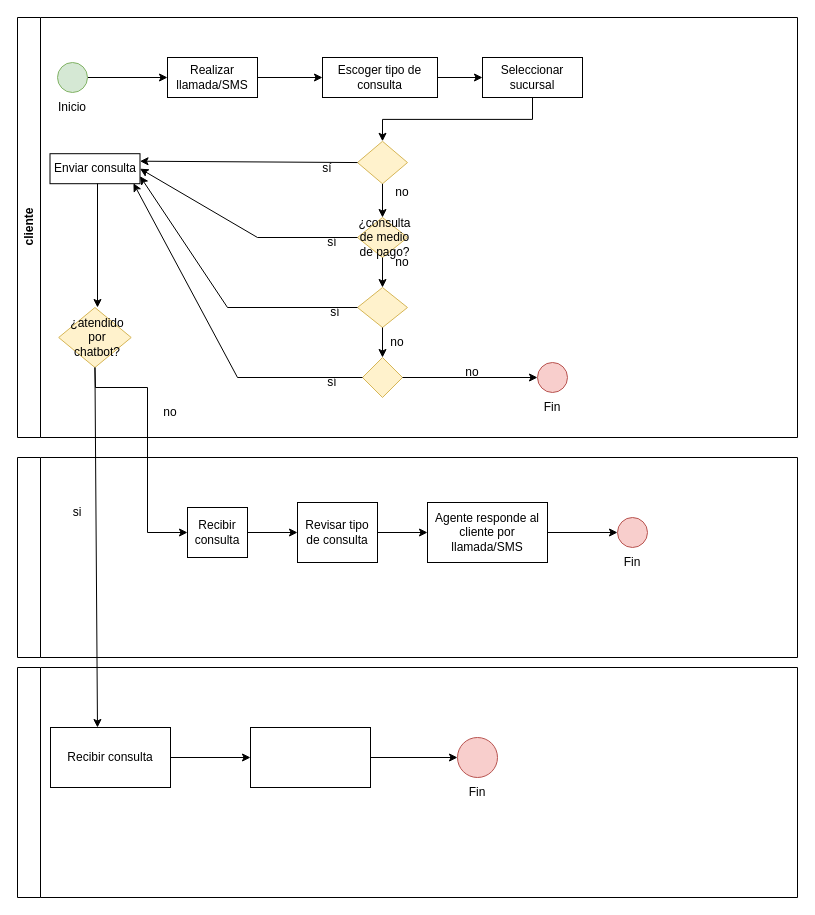
Some shapes in this 815 by 915 pixel diagram are drawn without their labels. The shapes that lost their labels are listed below. From the top down, each one's box as (x1, y1, x2, y2) in pixels, then its label:
(356, 140, 408, 184): ¿envío?
(356, 286, 408, 328): ¿cambio de producto?
(362, 356, 402, 398): ¿disponibilidad por talla?
(16, 456, 798, 658): soporte
(250, 726, 370, 788): Generar inmediatamente una respuesta
(16, 666, 798, 898): Chatbot
